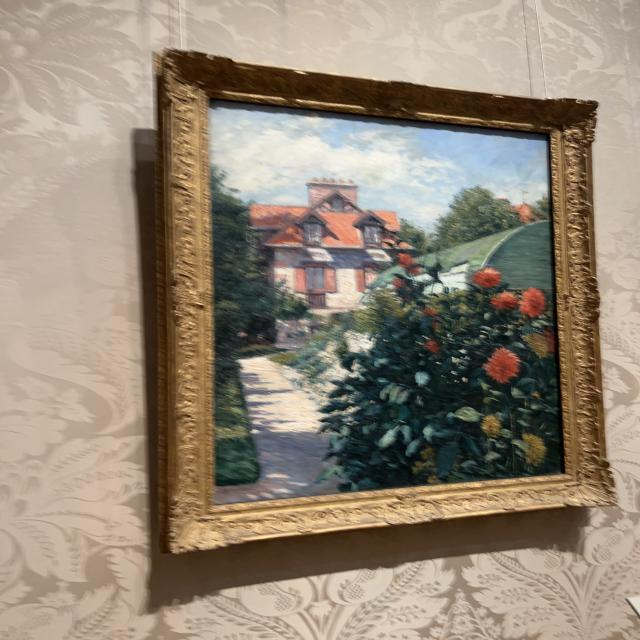summer: (210, 100, 566, 505)
